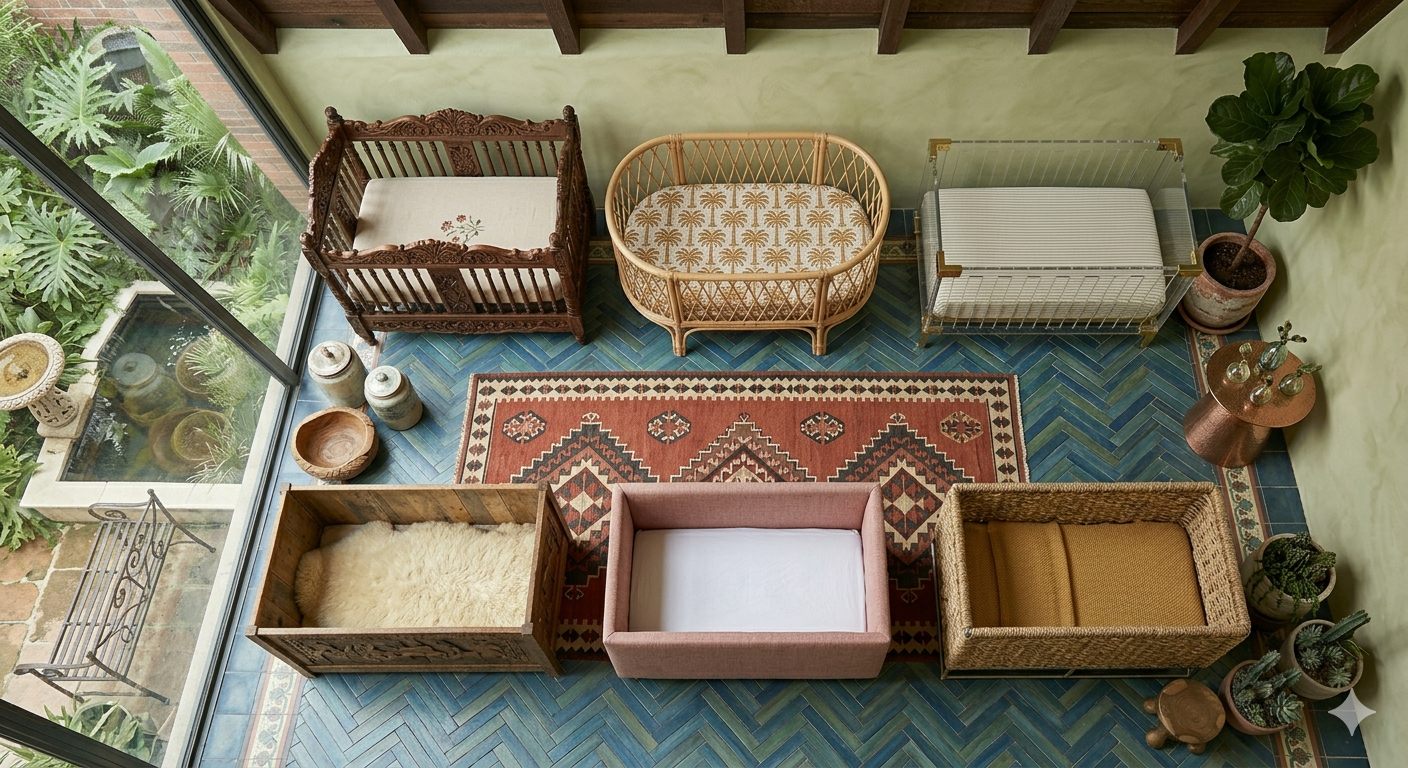crib: (302, 106, 592, 343), (245, 482, 571, 676), (606, 133, 889, 354), (932, 483, 1250, 676), (918, 140, 1200, 345), (602, 482, 890, 678)
